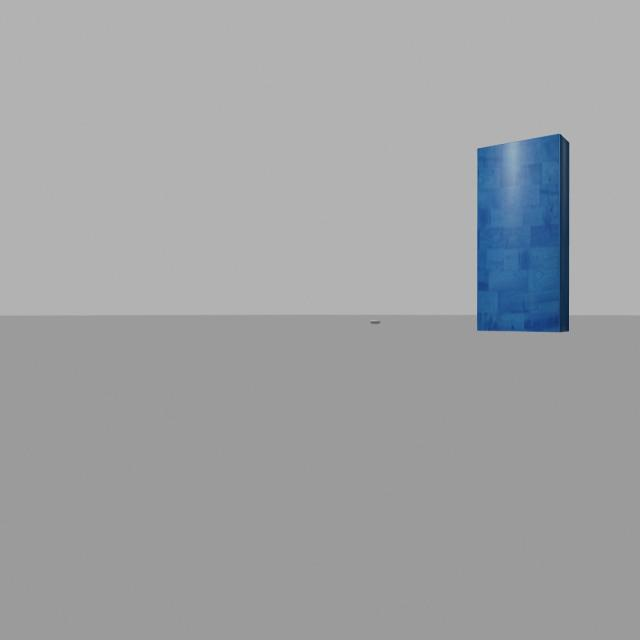bowl: (370, 315, 381, 328)
shelf: (469, 128, 582, 340)
